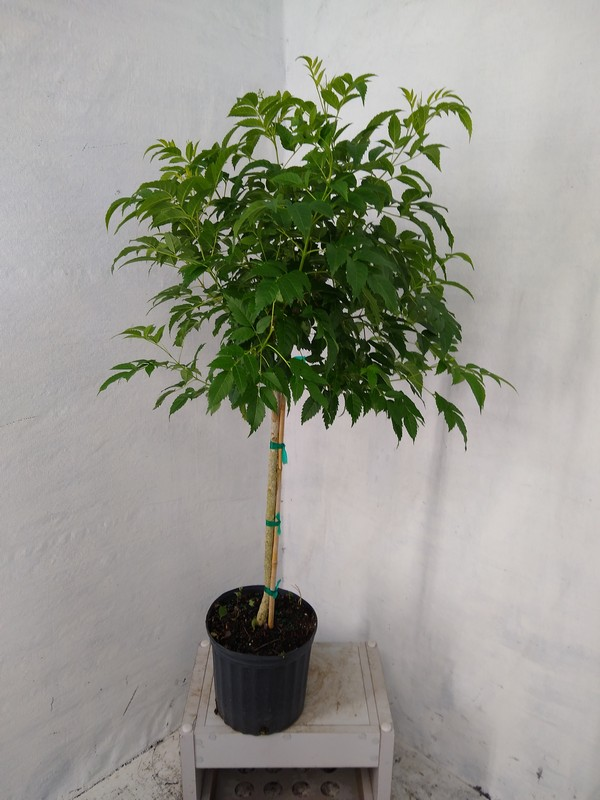plant: (97, 57, 517, 628)
pot: (204, 586, 318, 736)
